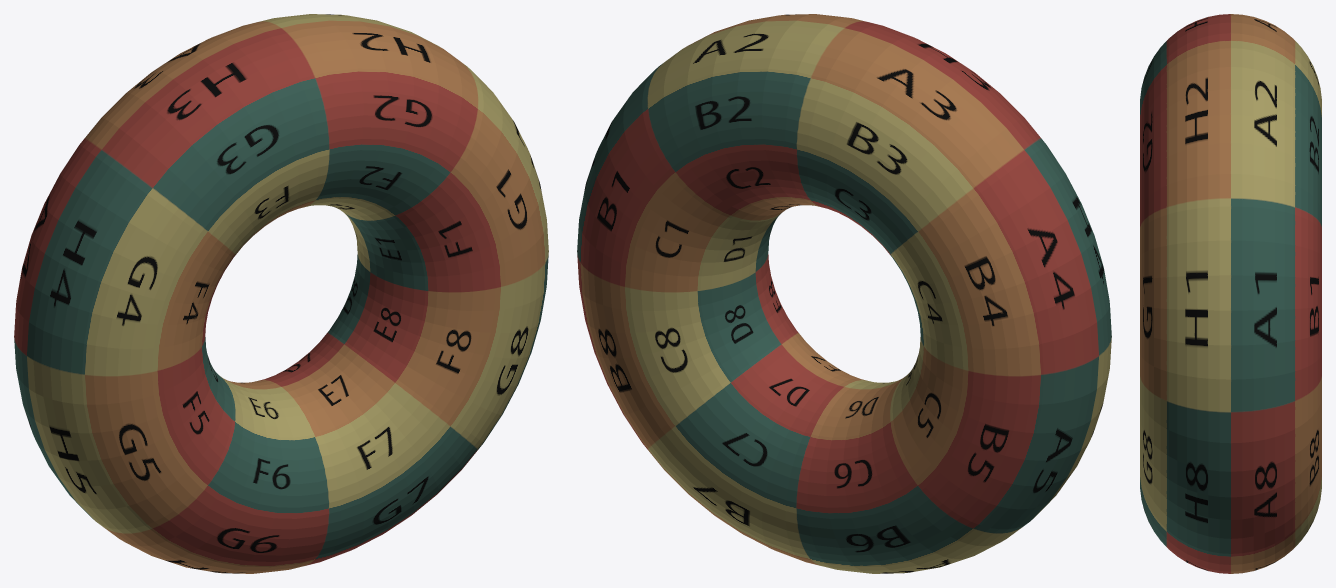
File: texture_torus_R2_r13.glb
3 views of the same model, side by side, from view 1: azimuth 30°, elevation 25°; view 2: azimuth 150°, elevation 25°; view 3: azimuth 270°, elevation 25° (orthographic). The views are drawn at different scales.
Parts seen in each view (by area): view 1: world; view 2: world; view 3: world.
Boxes of the visible parts, <box> form: world: <box>14,14,548,573</box>; world: <box>577,14,1111,573</box>; world: <box>1140,14,1321,573</box>.
Size of the model in its own units: 16.8 by 16.77 by 5.46.
Materials: 1 (1 with a texture image).
